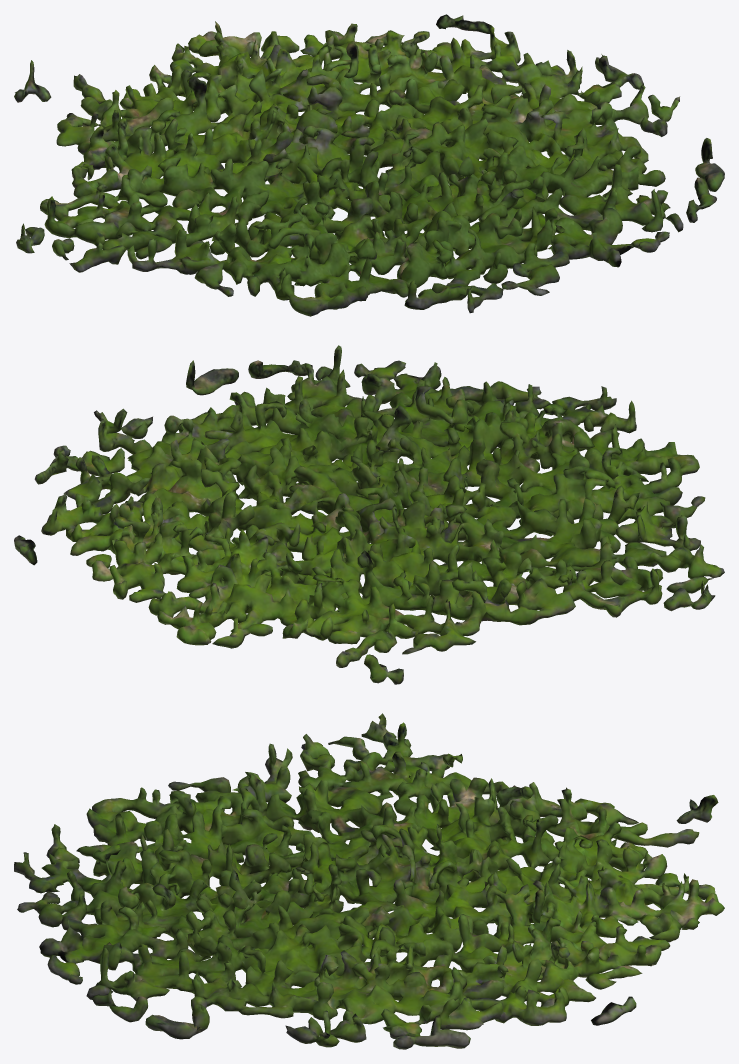
File: Grass_Terrain_0423202619_refine.fbx
3 views of the same model, one above another, from view 1: azimuth 30°, elevation 25°; view 2: azimuth 150°, elevation 25°; view 3: azimuth 270°, elevation 25° (orthographic). The views are drawn at different scales.
Parts seen in each view (by area): view 1: Mesh_0; view 2: Mesh_0; view 3: Mesh_0.
Boxes of the visible parts, left/top/right/bottom form: Mesh_0: left=14, top=14, right=724, bottom=316; Mesh_0: left=14, top=345, right=724, bottom=684; Mesh_0: left=14, top=713, right=724, bottom=1049.
Bounding box in the file's own units: 183 × 16.86 × 174.
Materials: 1 (1 with a texture image).
